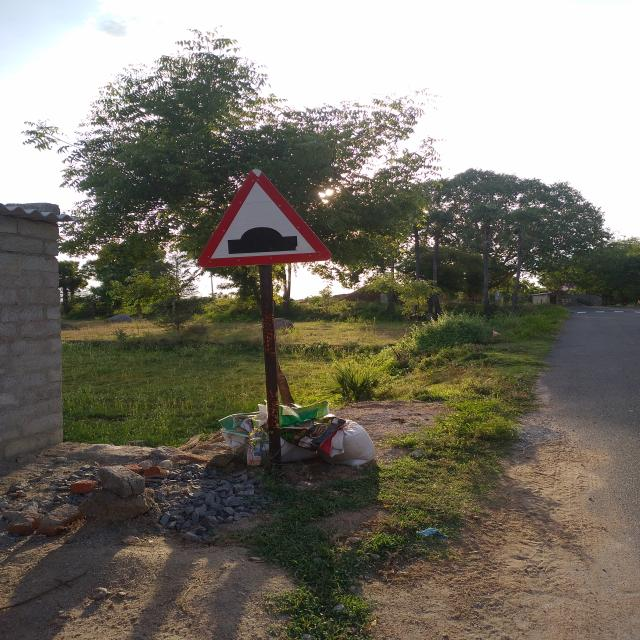HUMP_OR_ROUGH_ROAD: (197, 168, 332, 268)
